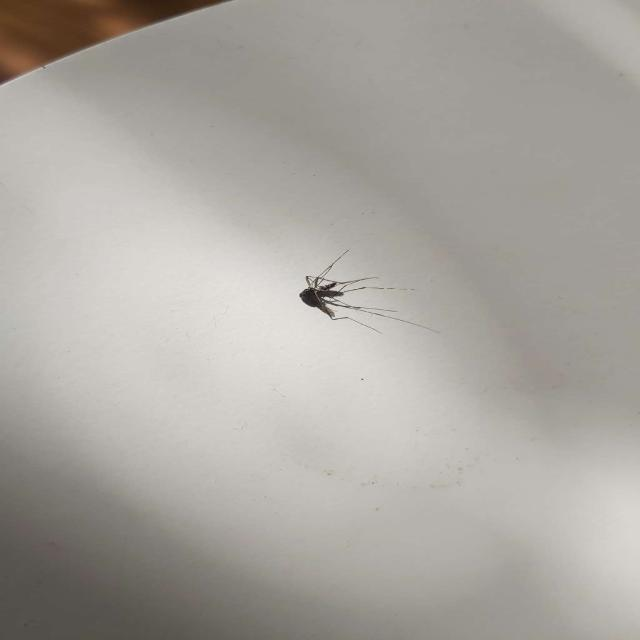albopictus: (280, 247, 432, 341)
